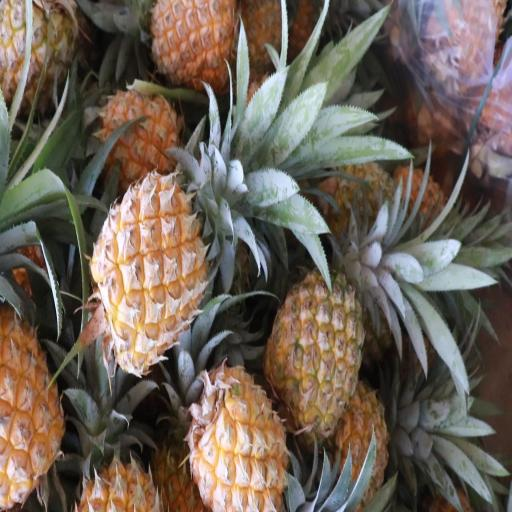------------------------------: (269, 272, 361, 432)
Pineapple - v8 v1: (93, 172, 204, 363), (186, 355, 284, 512), (0, 314, 64, 508), (94, 89, 182, 175), (147, 0, 232, 88)
